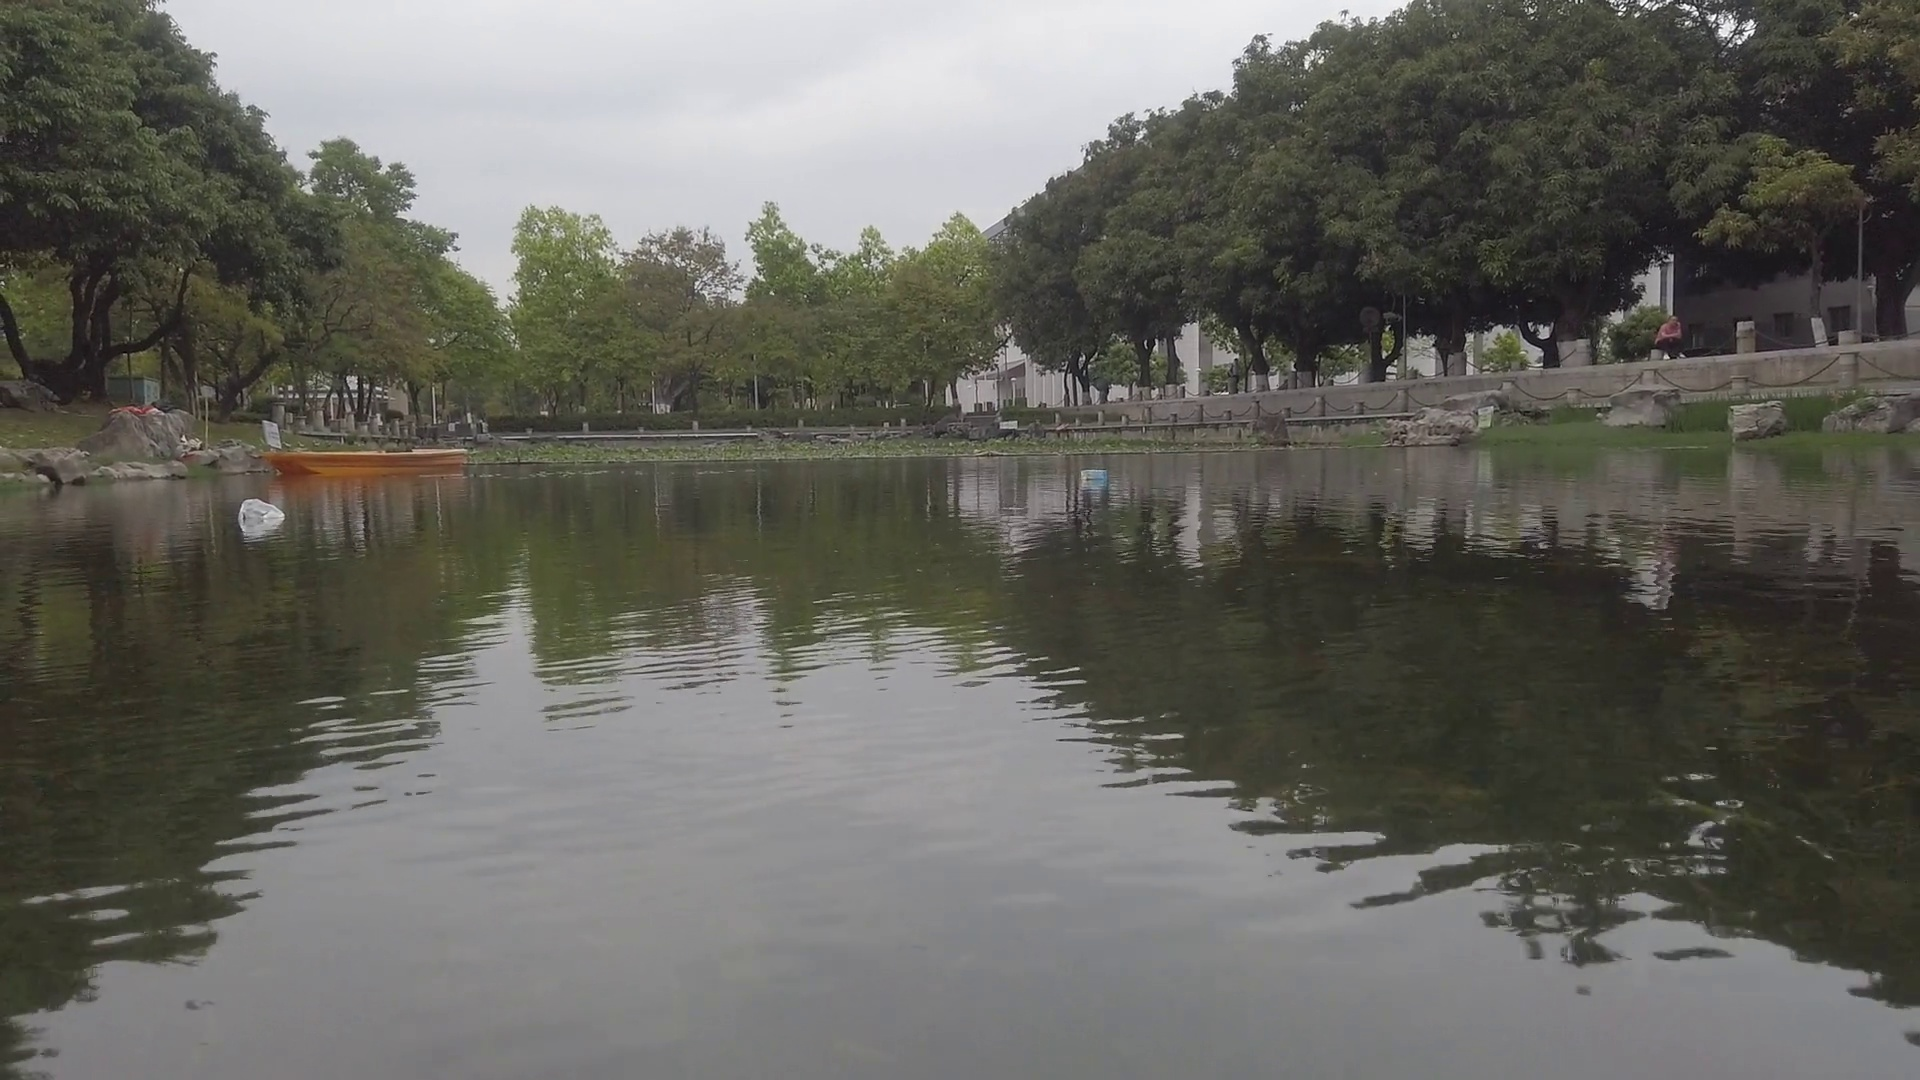carton: (1083, 468, 1110, 483)
plastic: (237, 498, 287, 531)
